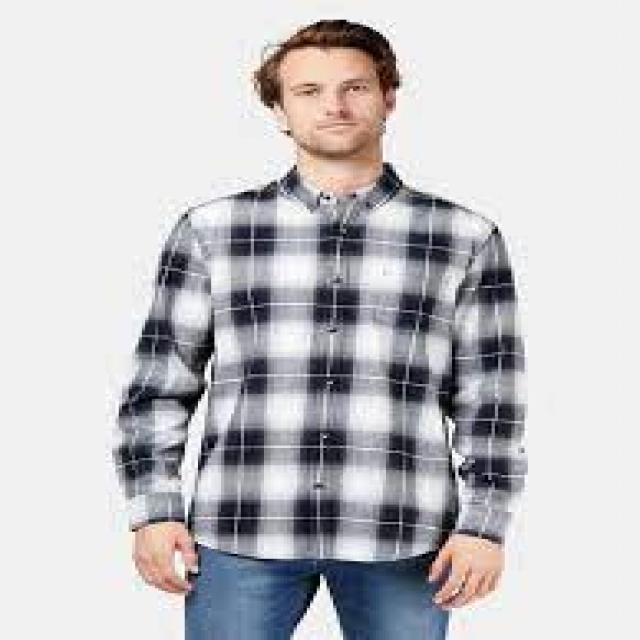plaid: (110, 173, 536, 563)
